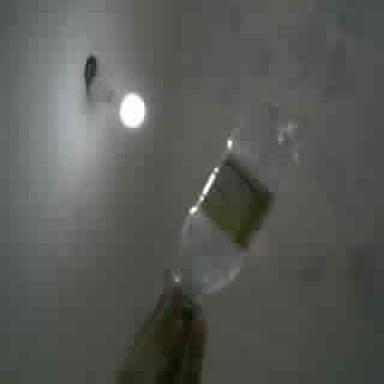bottle: (173, 106, 294, 293)
